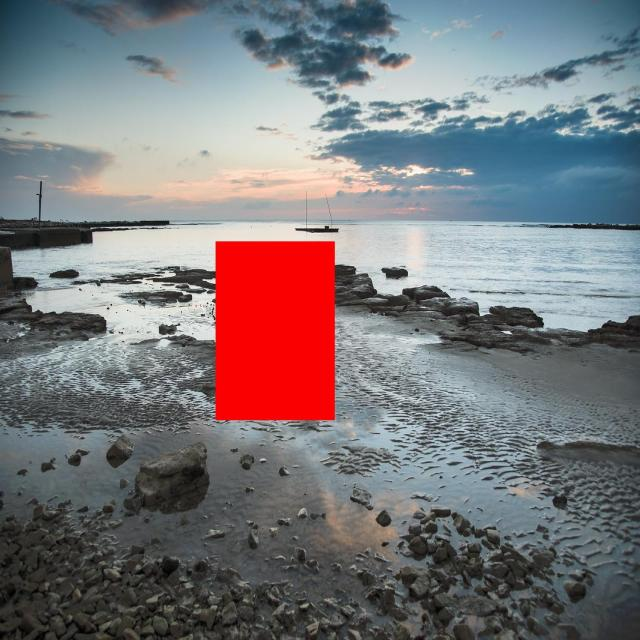RedSquare: (213, 238, 340, 428)
